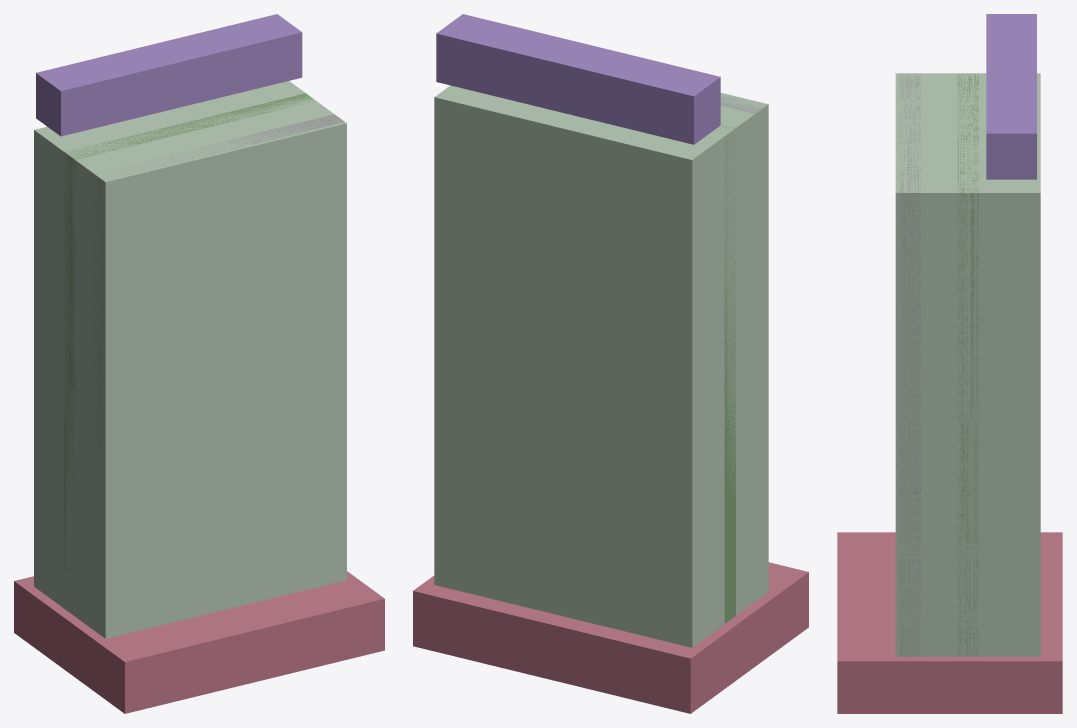
Rendered from 199533_pred.glb.
3 renders of one model, left to right at view 1: azimuth 30°, elevation 25°; view 2: azimuth 150°, elevation 25°; view 3: azimuth 270°, elevation 25°, orthographic. The views are drawn at different scales.
Parts seen in each view (by area): view 1: world; view 2: world; view 3: world.
Part boxes in pixels (<box>): world: <box>14,14,384,713</box>; world: <box>413,14,808,713</box>; world: <box>837,14,1062,713</box>.
Bounding box in the file's own units: 4.2 × 8.75 × 3.1.
